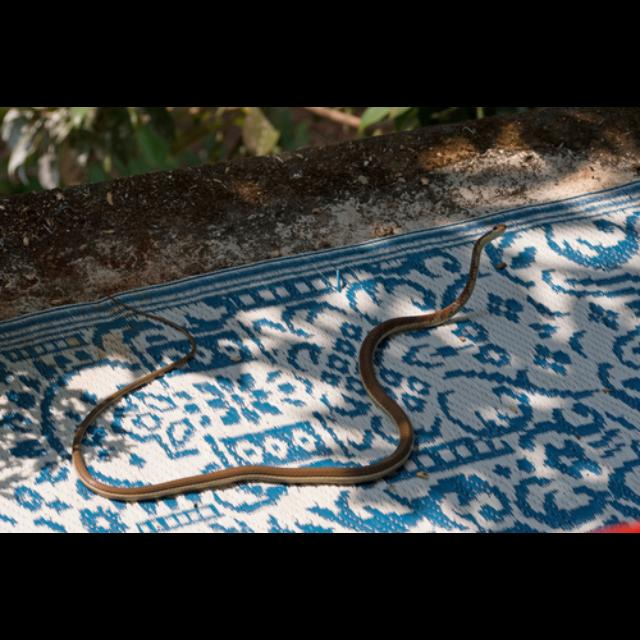snake: (71, 222, 525, 504)
